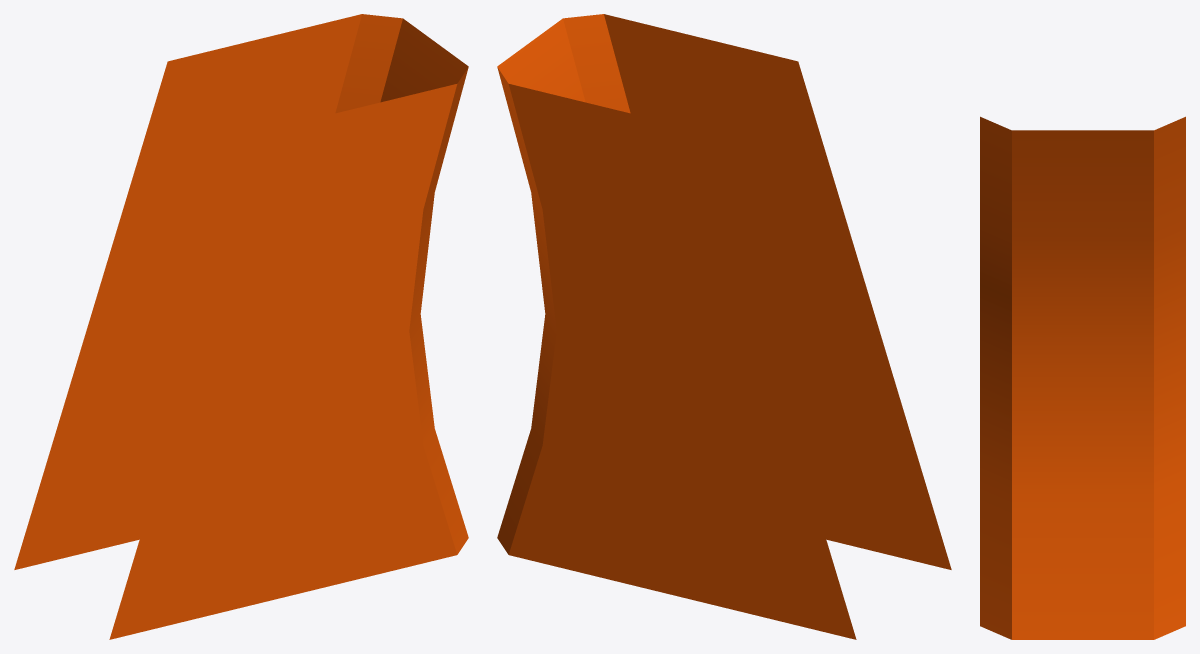
The model's file is AR4_GrenadeLauncher_Trigger.fbx.
3 renders of one model, left to right at view 1: azimuth 30°, elevation 25°; view 2: azimuth 150°, elevation 25°; view 3: azimuth 270°, elevation 25°, orthographic. The views are drawn at different scales.
Parts seen in each view (by area): view 1: AR4_GrenadeLauncher_Trigger; view 2: AR4_GrenadeLauncher_Trigger; view 3: AR4_GrenadeLauncher_Trigger.
Part boxes in pixels (bbox=[...]): AR4_GrenadeLauncher_Trigger: bbox=[14, 14, 468, 639]; AR4_GrenadeLauncher_Trigger: bbox=[497, 14, 951, 639]; AR4_GrenadeLauncher_Trigger: bbox=[980, 116, 1185, 639].
Bounding box in the file's own units: 2.47 × 2.98 × 1.09.
